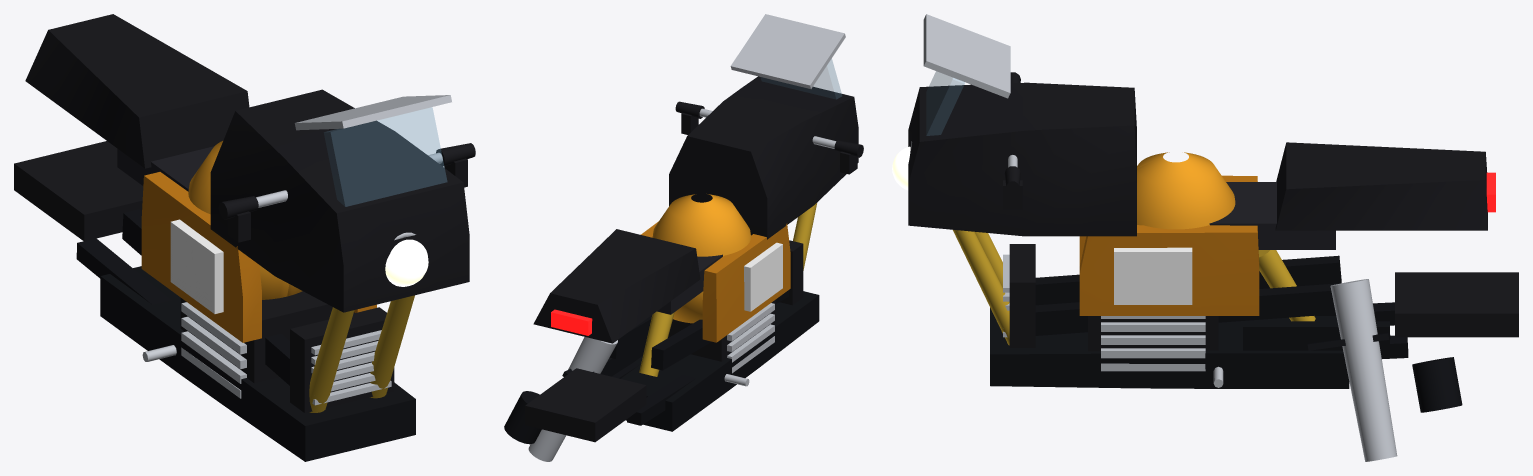
Rendered from superbike.glb.
The picture shows the model from 3 angles, left to right: view 1: azimuth 30°, elevation 25°; view 2: azimuth 150°, elevation 25°; view 3: azimuth 270°, elevation 25°; orthographic projection. The views are drawn at different scales.
Visible parts, largest first — view 1: hornet-1000r; view 2: hornet-1000r; view 3: hornet-1000r.
Boxes of the visible parts, x1,y1,x2,y2 form: hornet-1000r: [14, 14, 475, 461]; hornet-1000r: [504, 14, 863, 461]; hornet-1000r: [892, 14, 1518, 461].
Bounding box in the file's own units: 0.78 × 1.29 × 1.92.
